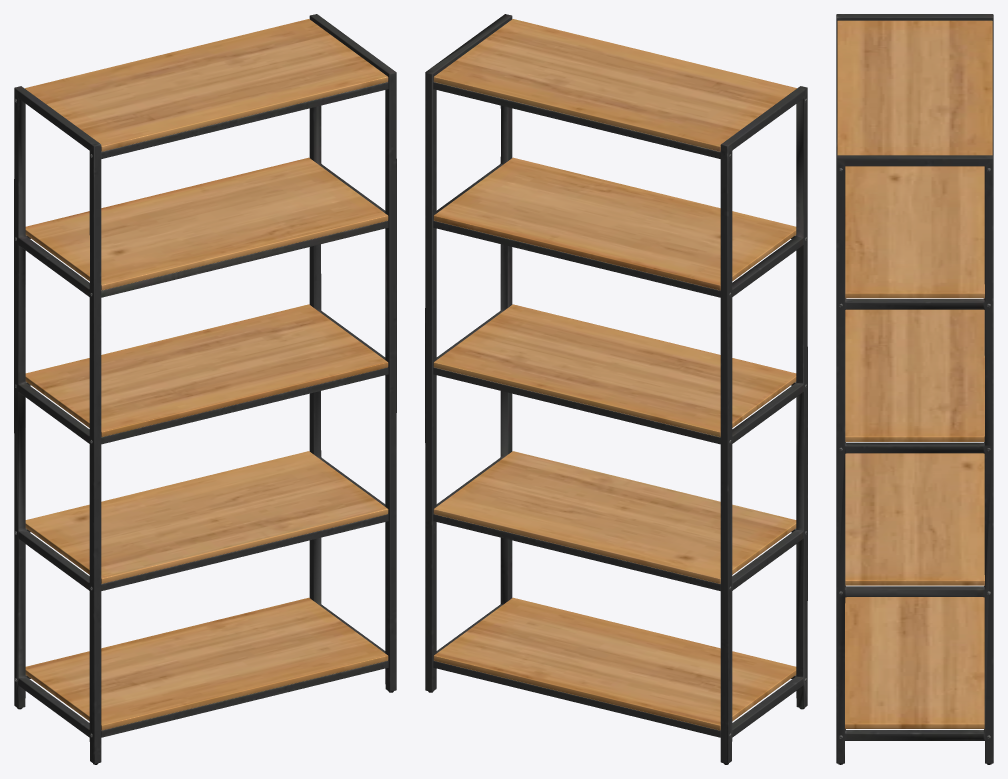
Rendered from shelves.glb.
The picture shows the model from 3 angles, left to right: view 1: azimuth 30°, elevation 25°; view 2: azimuth 150°, elevation 25°; view 3: azimuth 270°, elevation 25°; orthographic projection. The views are drawn at different scales.
Visible parts, largest first — view 1: steel_frame_shelves_01; view 2: steel_frame_shelves_01; view 3: steel_frame_shelves_01.
Boxes of the visible parts, x1,y1,x2,y2 form: steel_frame_shelves_01: [14, 14, 396, 764]; steel_frame_shelves_01: [425, 14, 807, 764]; steel_frame_shelves_01: [836, 14, 993, 764].
Bounding box in the file's own units: 10.97 × 21.41 × 5.02.
Materials: 1 (1 with a texture image).
